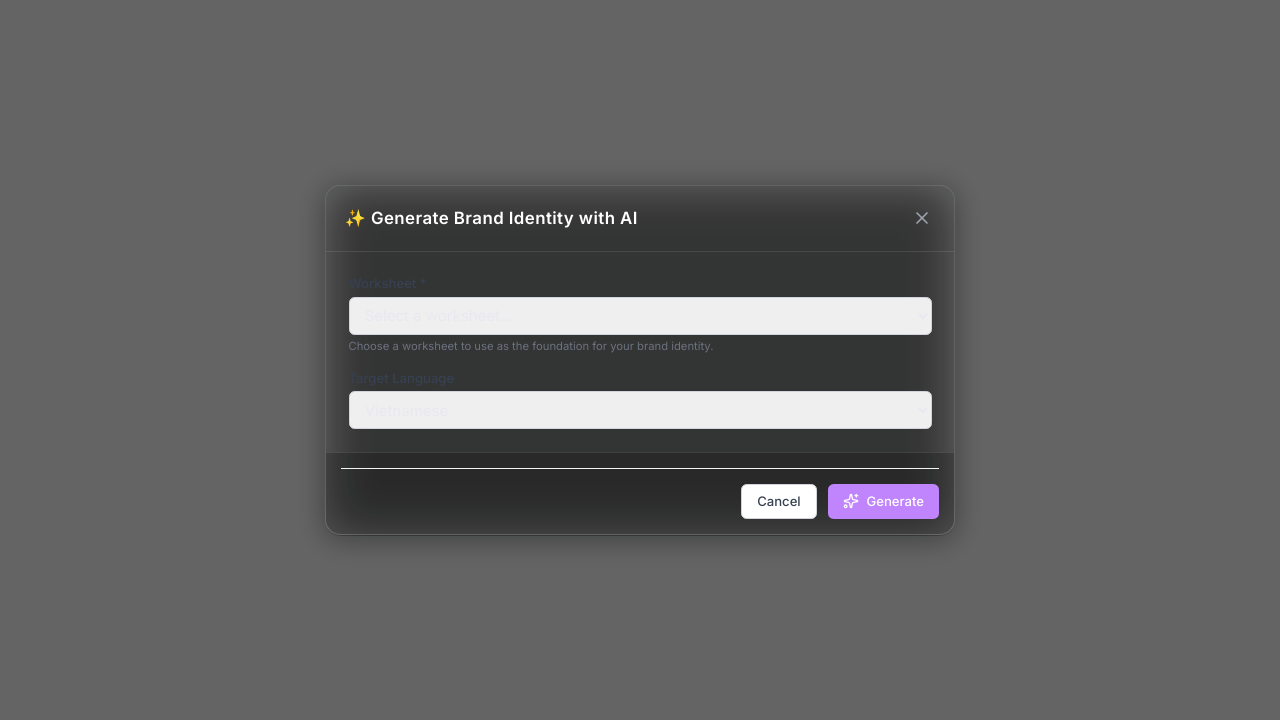
Scenario: BrandIdentityAIModal › displays error message on failure
Select "Worksheet 1" in the dropdown below "Worksheet *" at (640, 316), box 348,297 -> 932,335
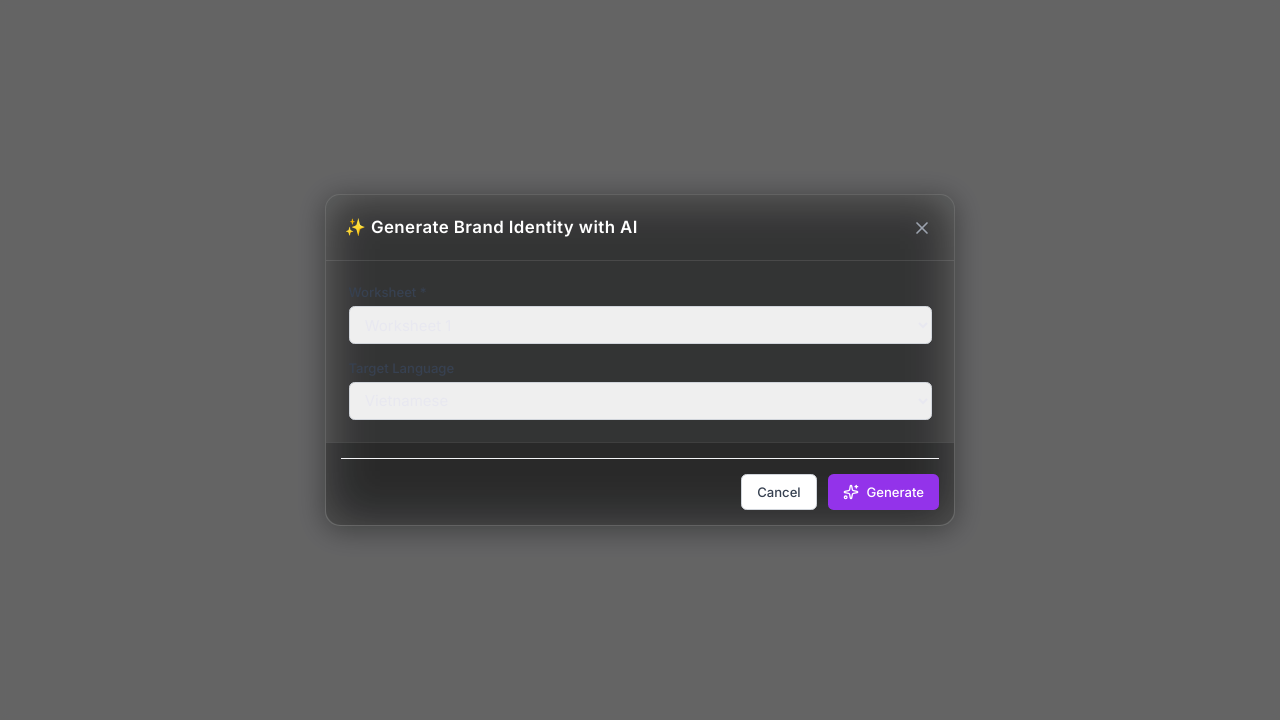
Click the button "Generate" at (883, 492), box 828,474 -> 939,510
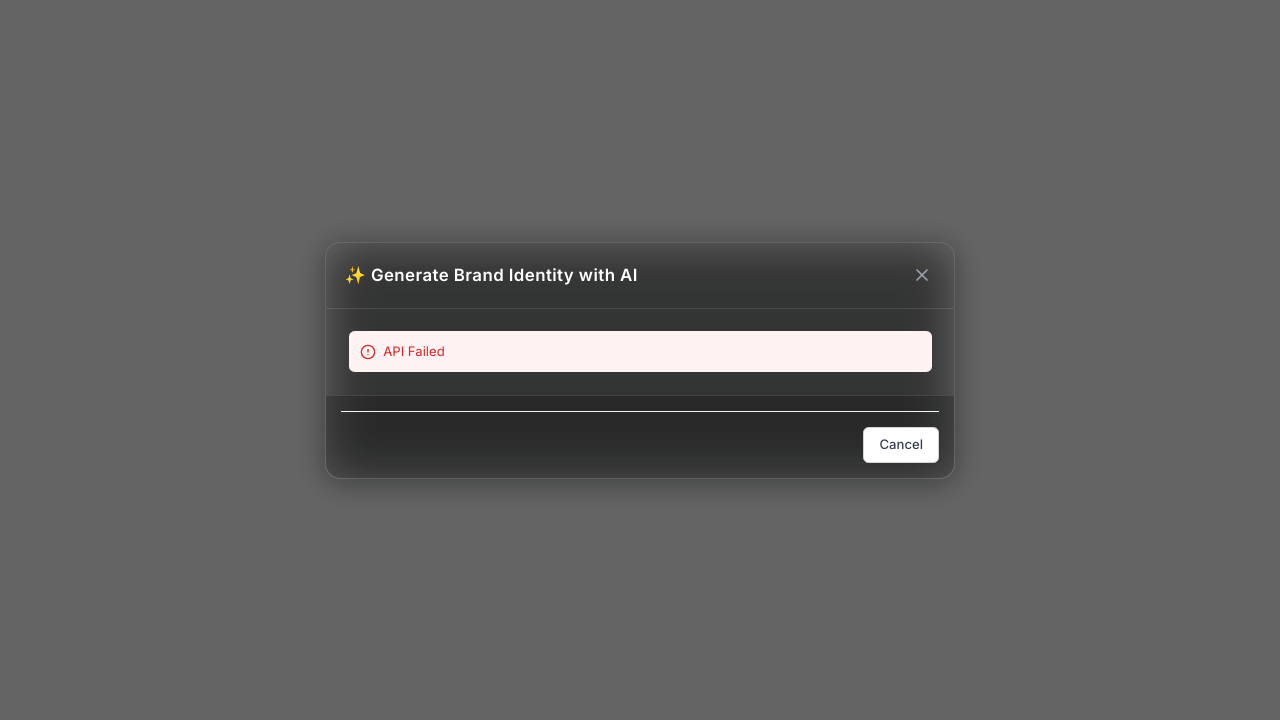
Expected: the text "API Failed" is shown, 383,342 -> 445,361
